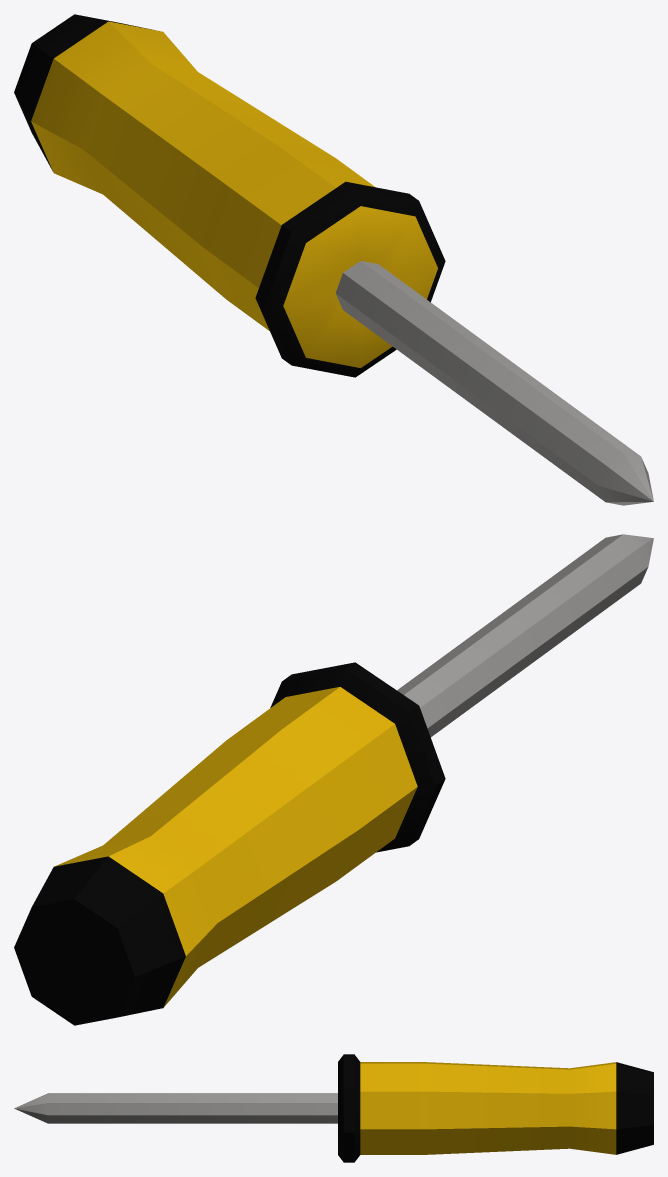
Rendered from Screwdriver.fbx.
3 views of the same model, one above another, from view 1: azimuth 30°, elevation 25°; view 2: azimuth 150°, elevation 25°; view 3: azimuth 270°, elevation 25° (orthographic). The views are drawn at different scales.
Visible parts, largest first — view 1: Cylinder; view 2: Cylinder; view 3: Cylinder.
Part boxes in pixels (x1,y1,x2,y2): Cylinder: (14, 14, 653, 505); Cylinder: (14, 534, 653, 1025); Cylinder: (14, 1054, 653, 1162).
Size of the model in its own units: 2.91 by 2.91 by 16.2.
